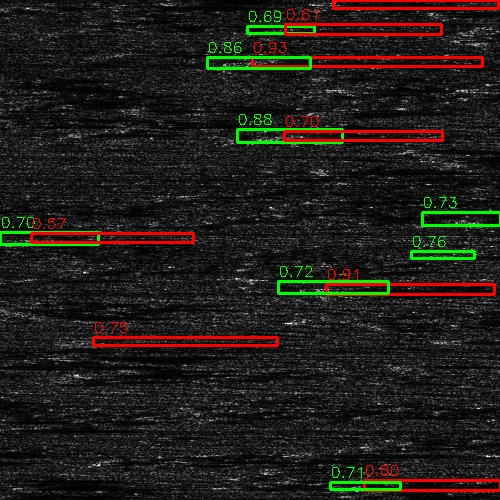rock: (348, 246, 500, 259), (6, 352, 131, 361), (227, 56, 300, 65), (32, 339, 115, 346), (340, 482, 393, 489), (465, 216, 500, 225), (0, 360, 13, 373), (265, 134, 306, 137), (318, 287, 339, 292)
shadow: (0, 360, 177, 373), (264, 56, 461, 65), (69, 352, 205, 361), (74, 339, 245, 346), (367, 482, 500, 489), (437, 246, 500, 259), (329, 287, 485, 292), (286, 134, 403, 137)
